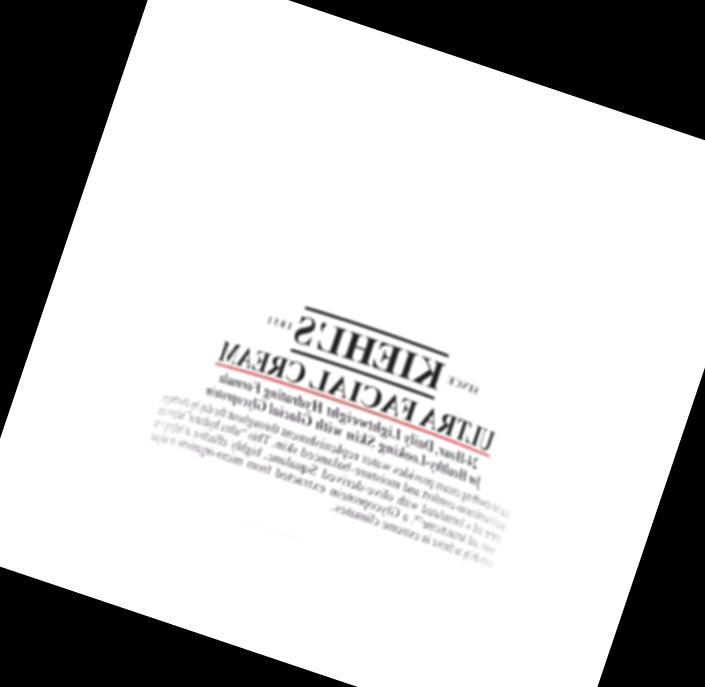cosmetic: (129, 185, 590, 606)
